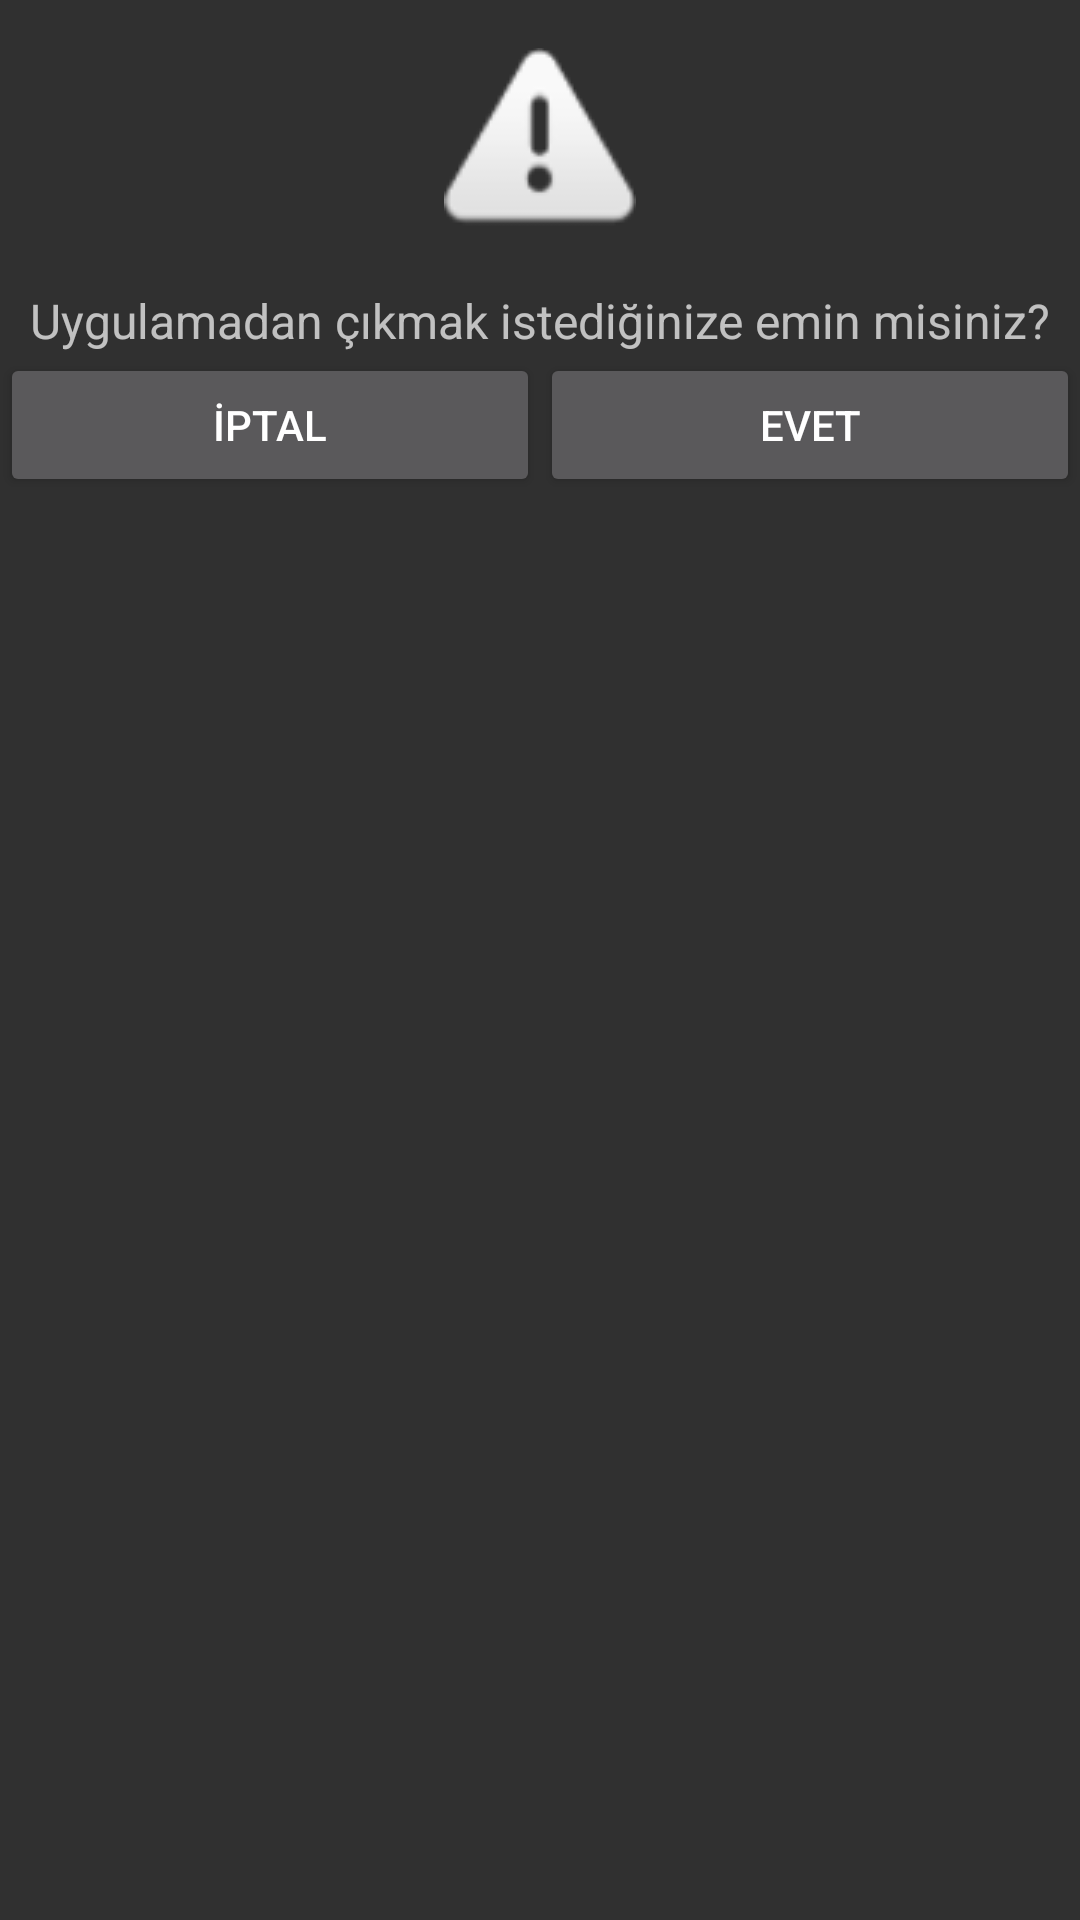

Named icons in this screenshot (1080×1920) and their bounding boxes, (x1, y1, x2, y2):
alert: (444, 48, 636, 223)
